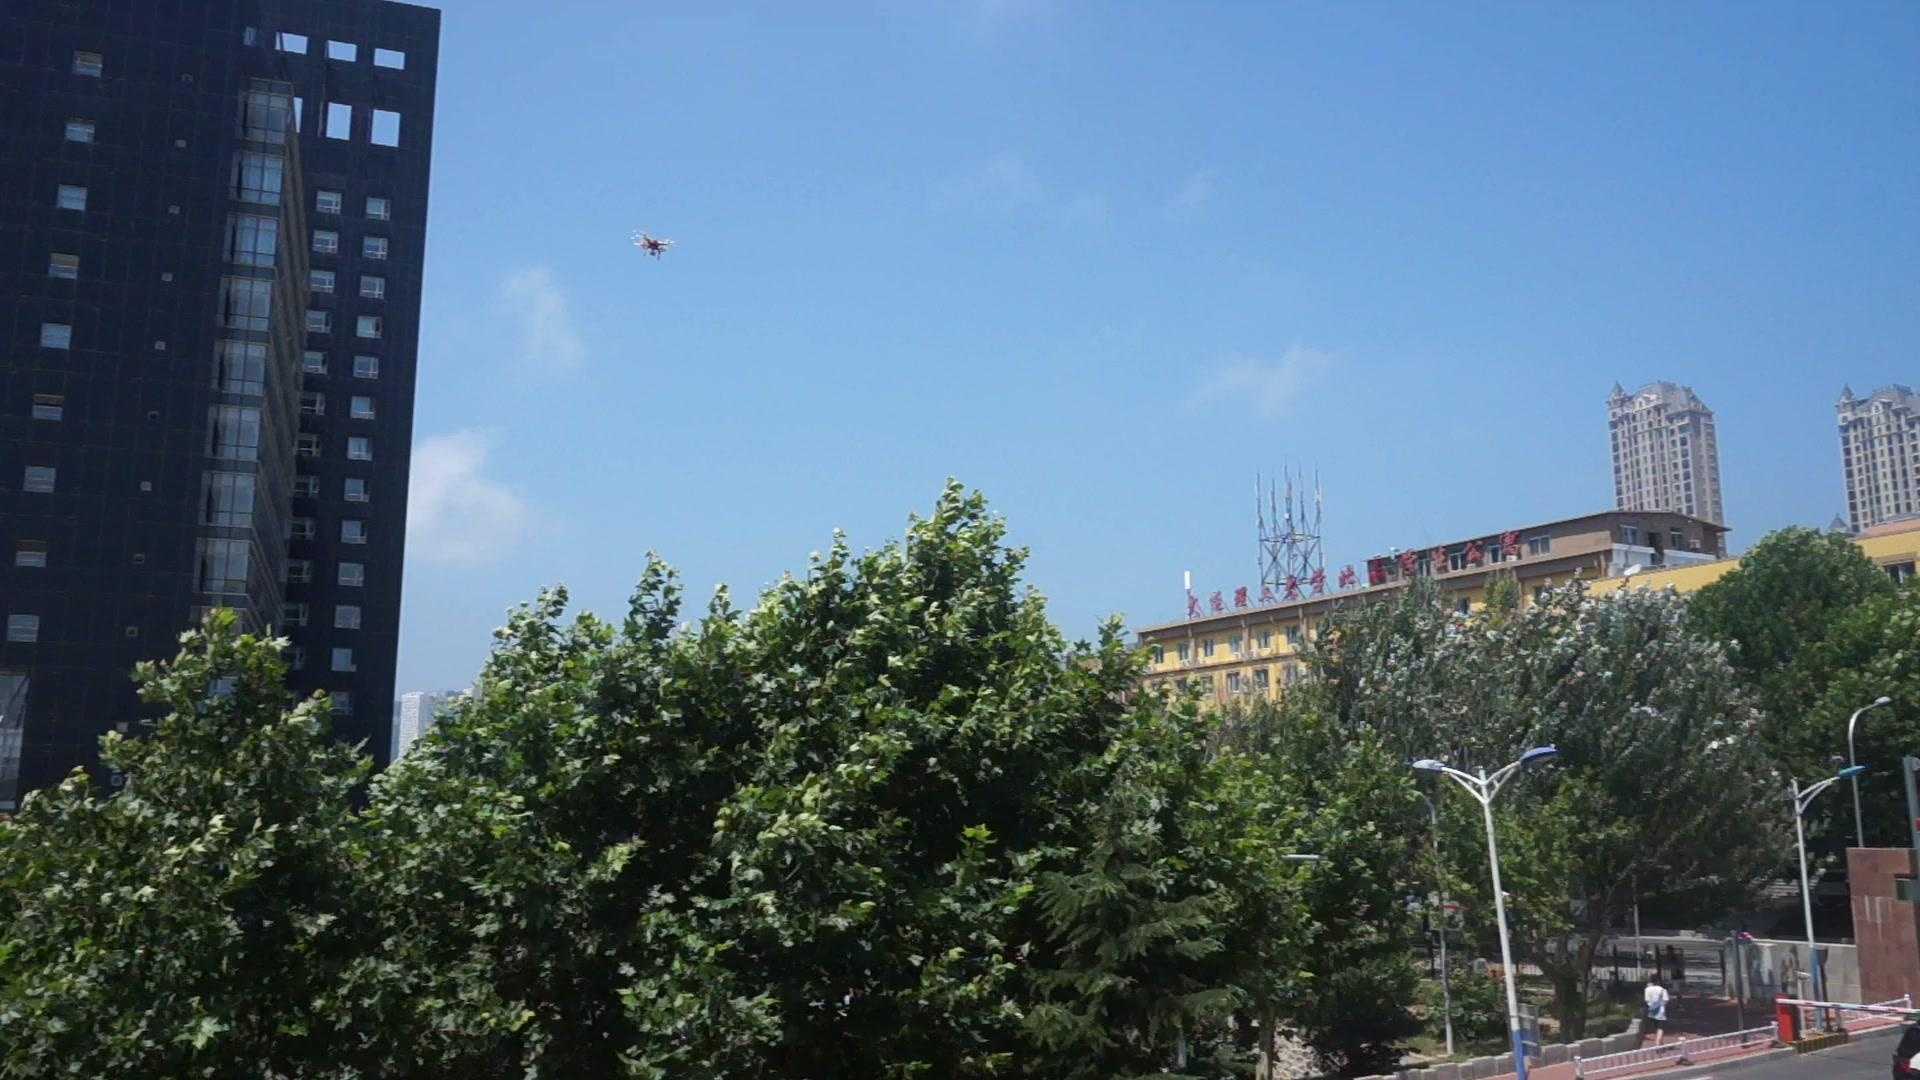UAV: (630, 231, 676, 261)
